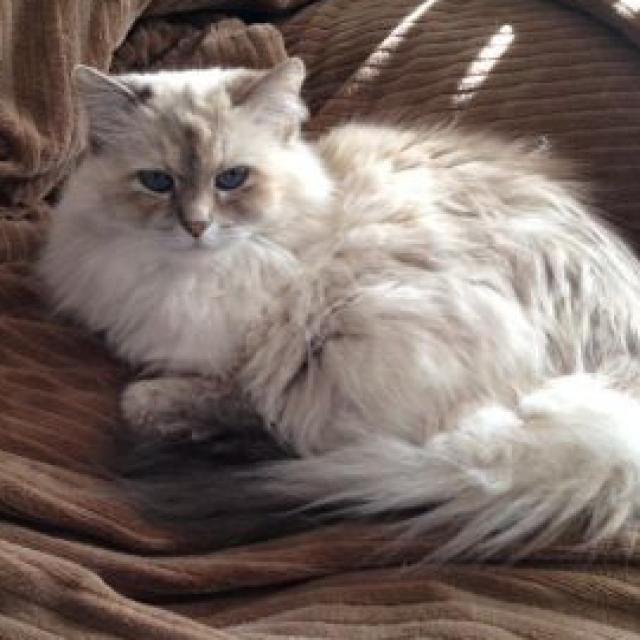Ragdoll: (35, 50, 640, 561)
